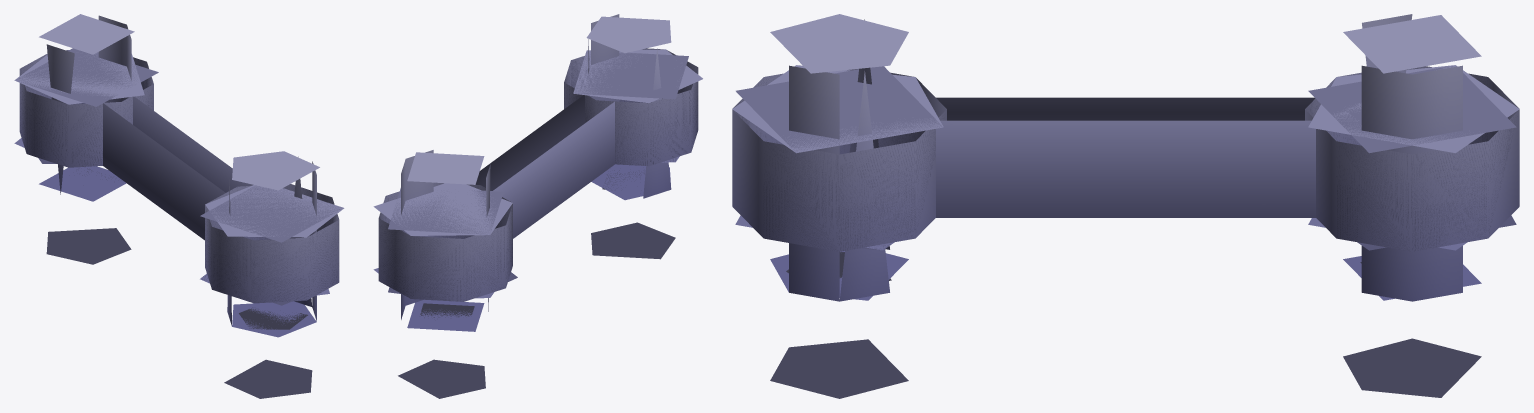
The model's file is concrete_road_barrier_LOD1.glb.
3 views of the same model, side by side, from view 1: azimuth 30°, elevation 25°; view 2: azimuth 150°, elevation 25°; view 3: azimuth 270°, elevation 25° (orthographic). The views are drawn at different scales.
Parts seen in each view (by area): view 1: structure-short; view 2: structure-short; view 3: structure-short.
Boxes of the visible parts, bbox=[...] form: structure-short: bbox=[14, 14, 344, 398]; structure-short: bbox=[373, 14, 702, 398]; structure-short: bbox=[732, 14, 1519, 398].
Size of what is drawn, in the model's own units: 0.195 by 0.325 by 0.715.
Materials: 1 (1 with a texture image).
